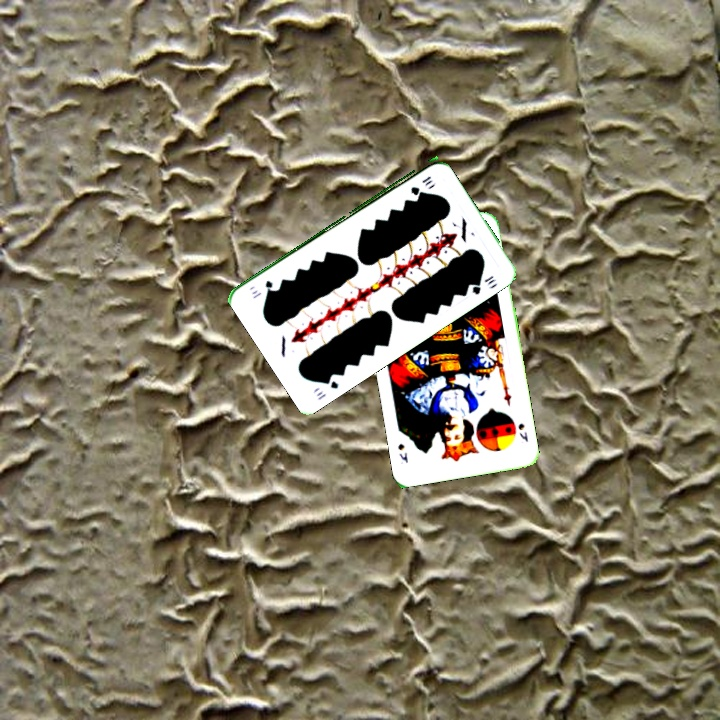G10: (313, 373, 341, 403), (407, 172, 435, 197)
SK: (514, 419, 531, 444)
